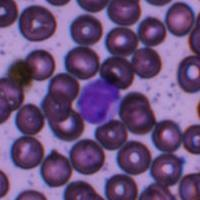M: (76, 78, 120, 125)
